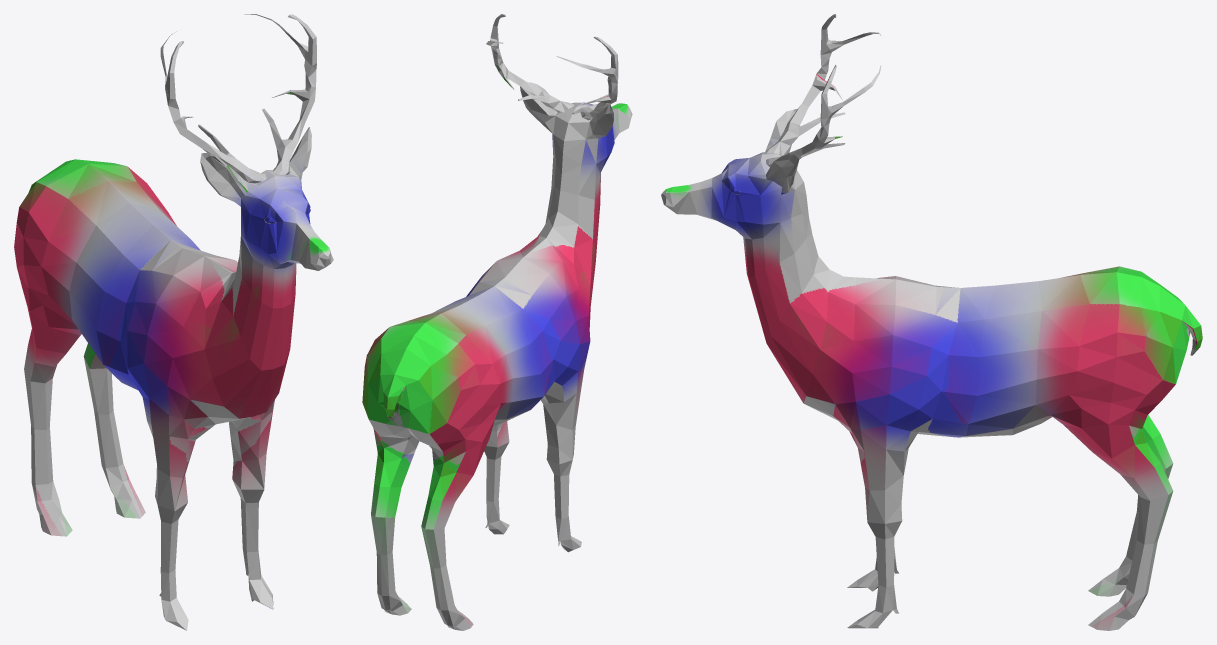
File: deer3.obj
The picture shows the model from 3 angles, left to right: view 1: azimuth 30°, elevation 25°; view 2: azimuth 150°, elevation 25°; view 3: azimuth 270°, elevation 25°; orthographic projection. The views are drawn at different scales.
Parts seen in each view (by area): view 1: Deer; view 2: Deer; view 3: Deer.
Part boxes in pixels (left/top/right/bottom): Deer: left=14, top=14, right=333, bottom=630; Deer: left=362, top=14, right=632, bottom=630; Deer: left=661, top=14, right=1202, bottom=630.
Size of the model in its own units: 10.14 by 38.9 by 33.63.
1 material, 1 textured.
